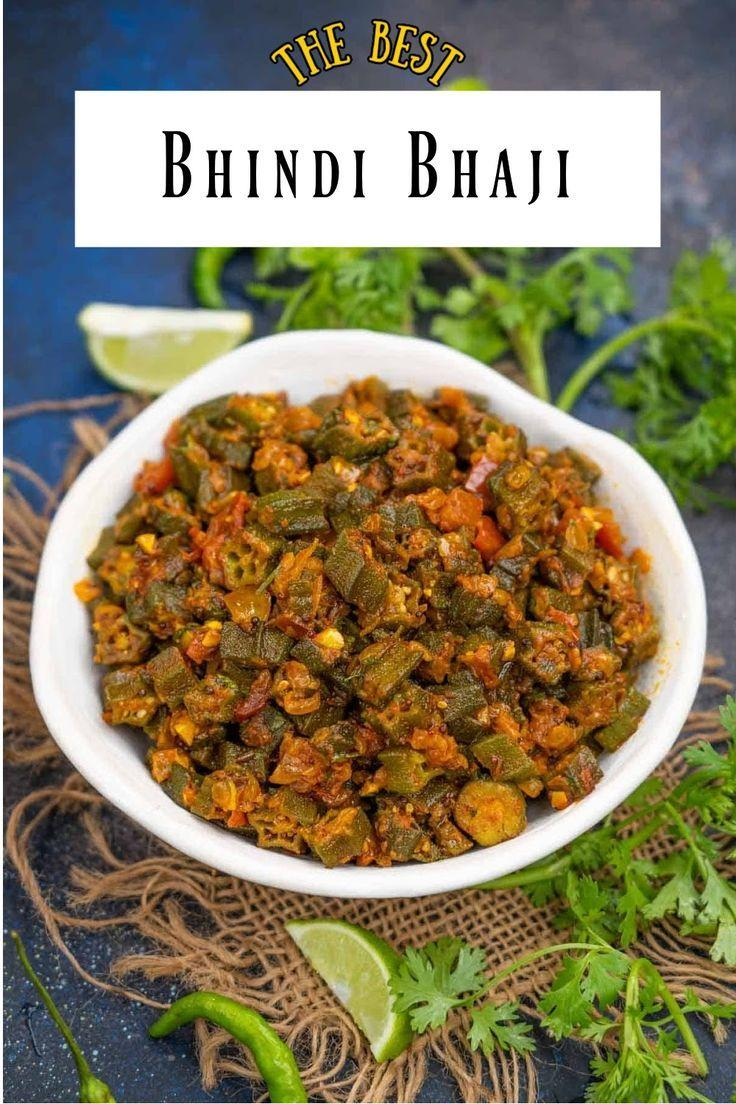bhindi: (158, 401, 595, 838)
